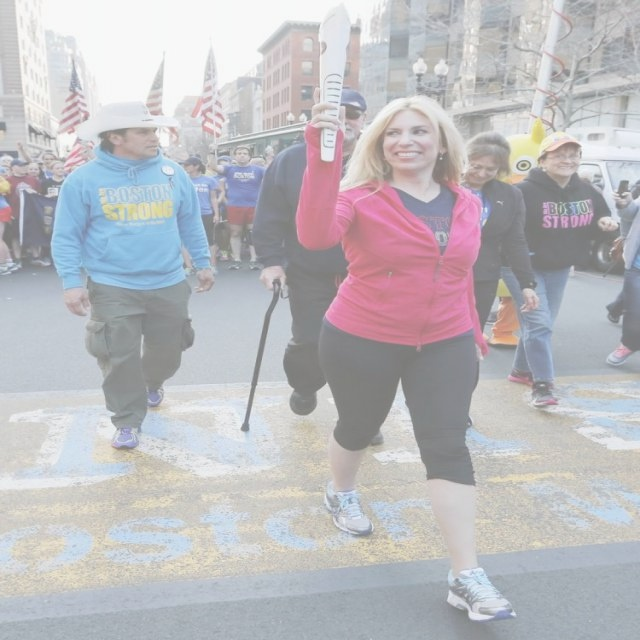pessoa: (290, 84, 525, 626), (48, 99, 218, 452), (249, 89, 368, 418), (493, 128, 625, 410), (458, 130, 543, 434), (574, 165, 639, 368), (206, 140, 266, 271), (0, 156, 53, 270), (176, 156, 222, 276), (0, 140, 96, 180), (211, 154, 236, 262), (0, 191, 20, 275), (210, 230, 255, 265), (188, 152, 238, 177), (41, 161, 67, 202), (19, 238, 50, 258), (247, 153, 276, 170)
